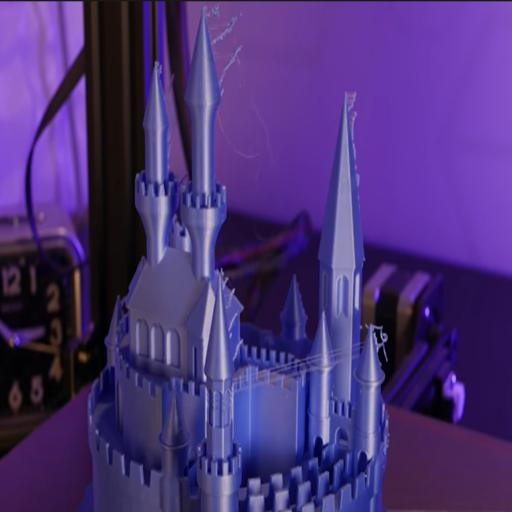stringing: (228, 342, 366, 404), (204, 1, 249, 99), (346, 86, 364, 192)
